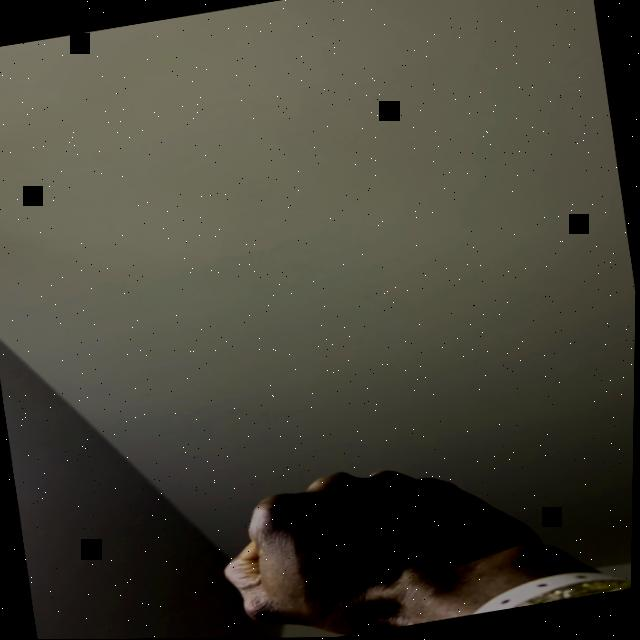Rock: (208, 436, 560, 639)
